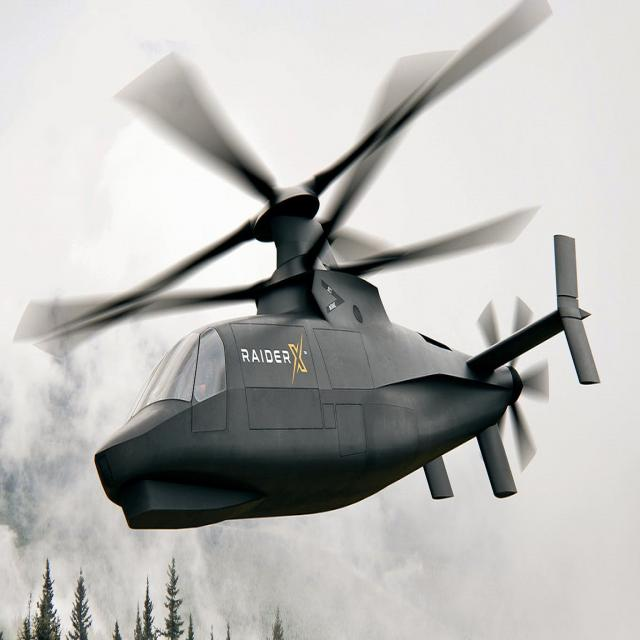helicopter: (1, 1, 620, 586)
